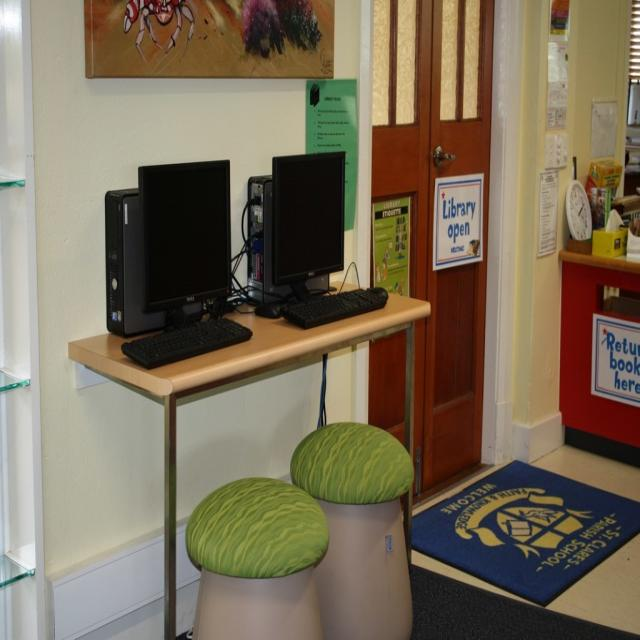desk: (70, 311, 429, 634)
keyboard: (122, 315, 254, 370), (280, 284, 390, 330)
tv: (118, 159, 233, 327), (270, 150, 346, 289)
